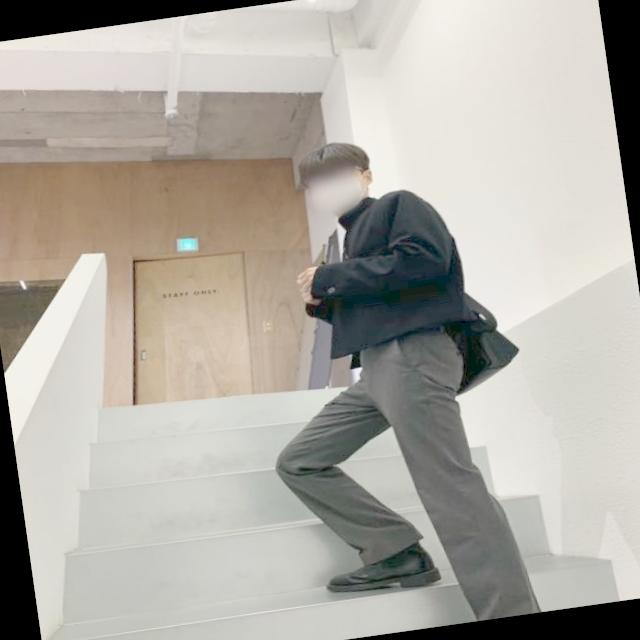blazer: (280, 182, 470, 360)
slacks: (258, 319, 548, 640)
